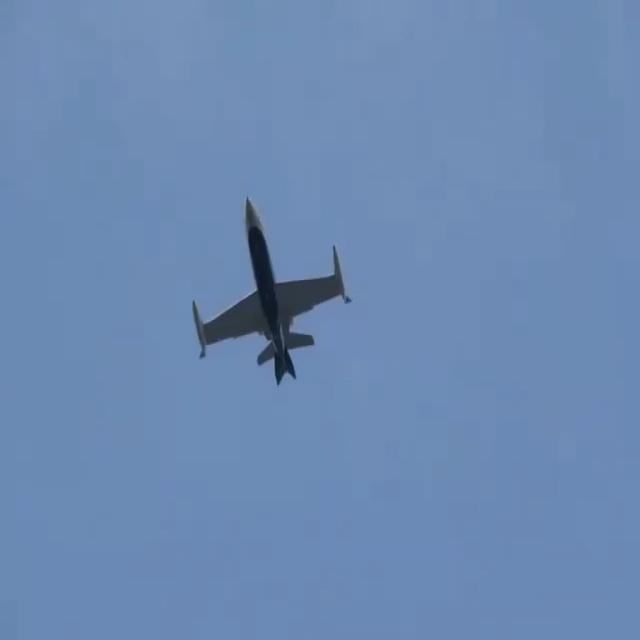AirPlane: (163, 186, 378, 400)
